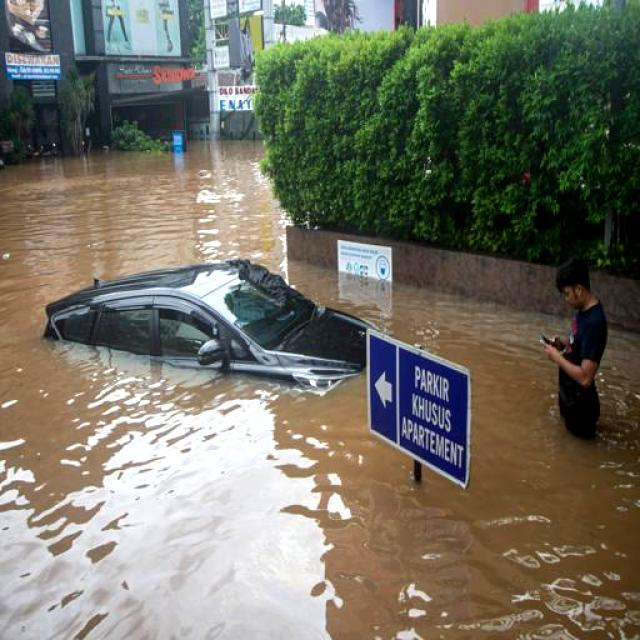civilian: (505, 233, 617, 467)
